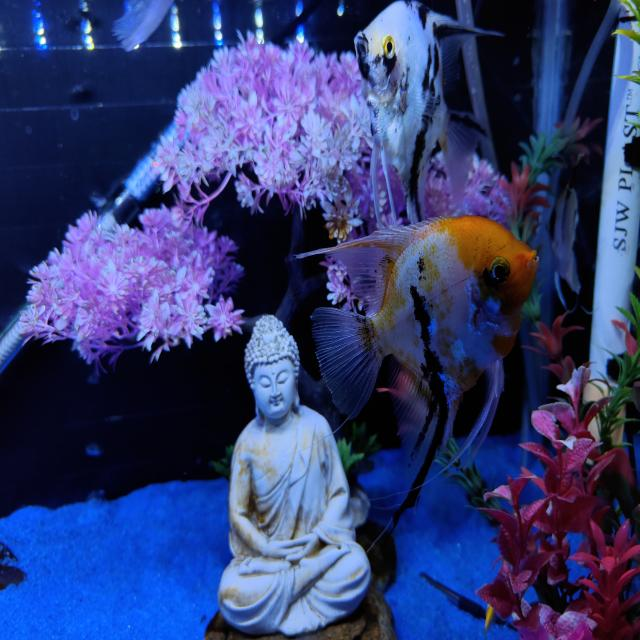Fish: (298, 217, 537, 525), (355, 0, 499, 226), (113, 0, 173, 51)
